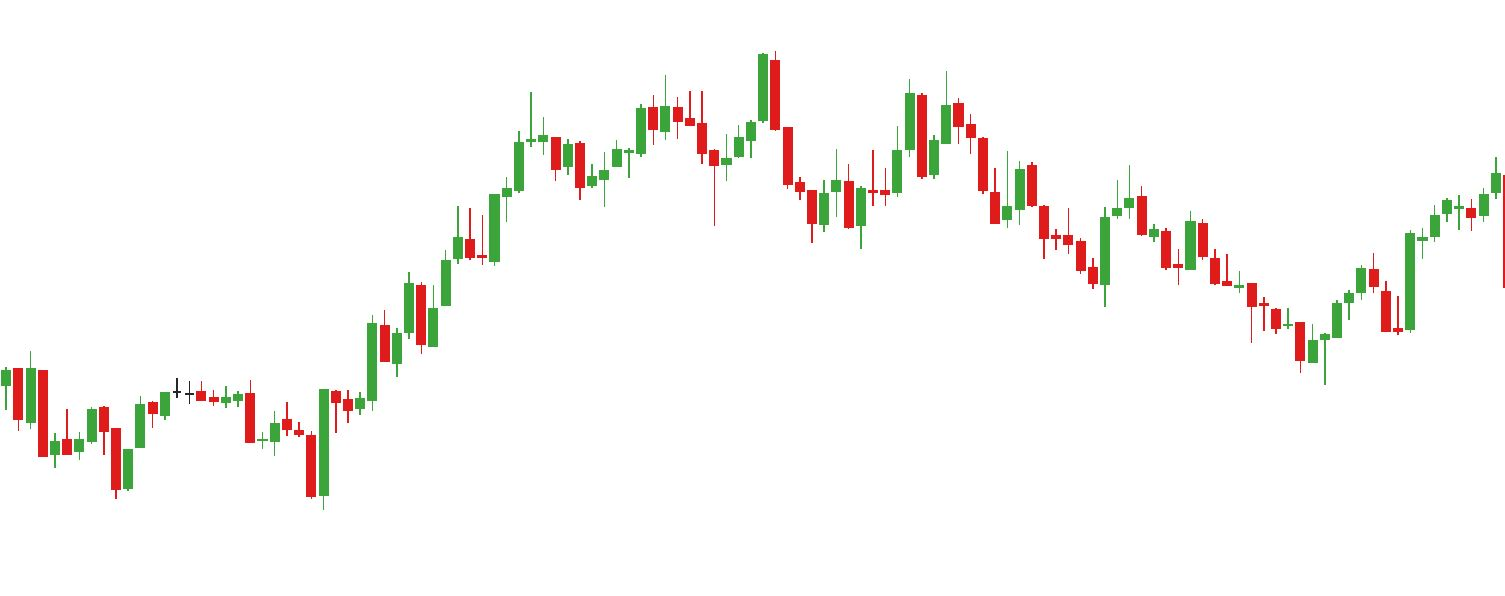buy: (109, 412, 329, 510)
sell: (657, 51, 783, 149)
